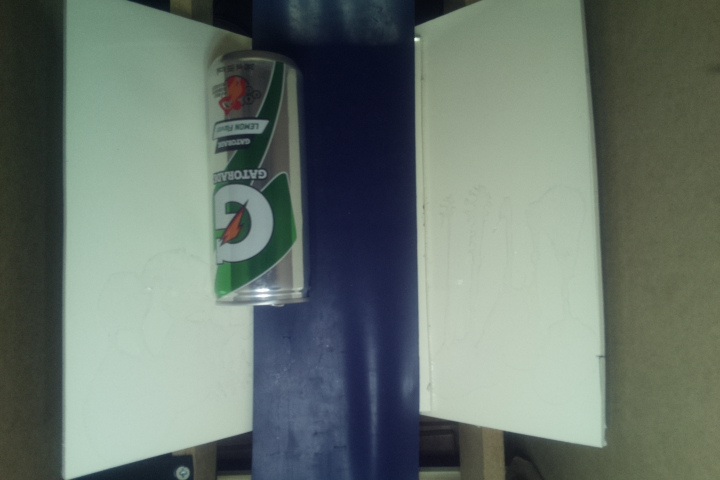can: (205, 49, 311, 310)
